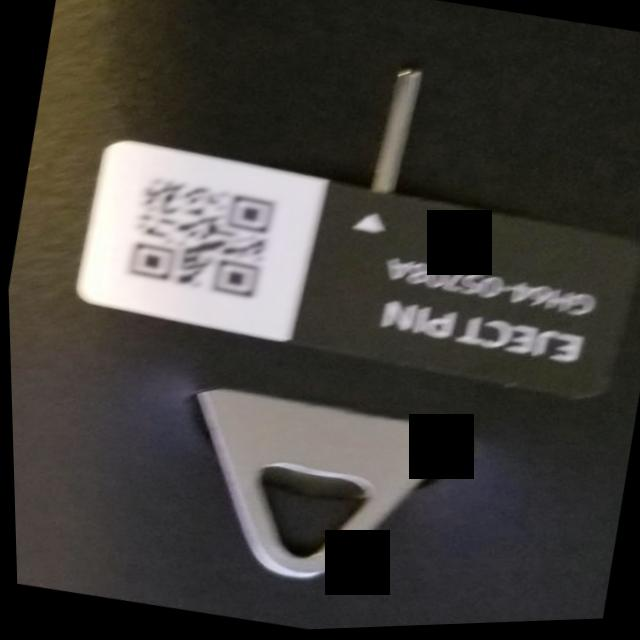QR_CODE: (109, 163, 296, 323)
